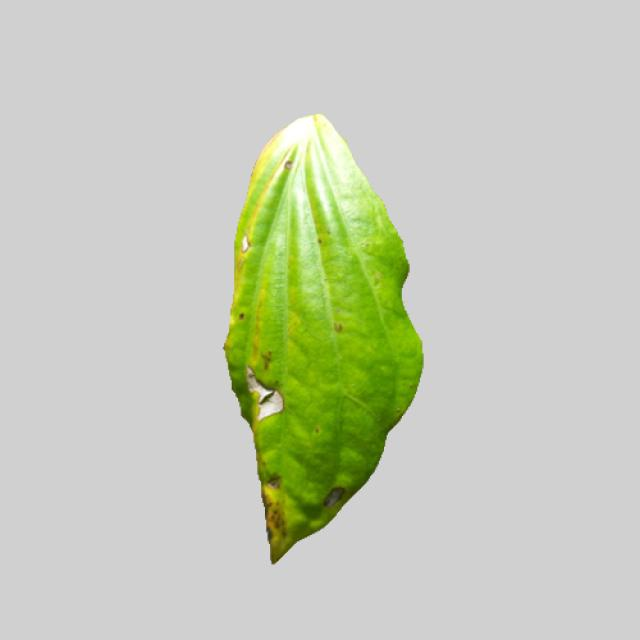yellow-mottle-virus: (196, 113, 429, 562)
